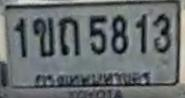1: (14, 17, 26, 57), (135, 13, 146, 52)
3: (152, 13, 170, 52)
5: (88, 14, 105, 54)
8: (110, 14, 127, 53)
A02: (32, 17, 54, 56)
A22: (58, 16, 80, 55)
BKK: (33, 68, 153, 88)
